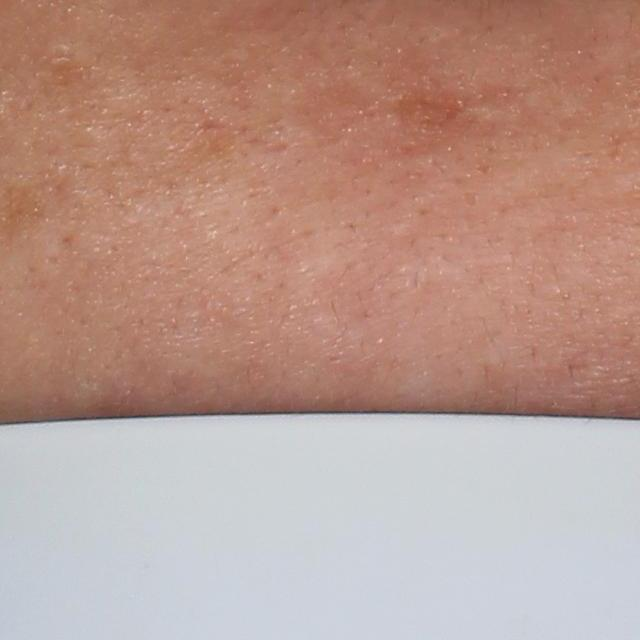hypertrophic_scar: (464, 99, 529, 130)
